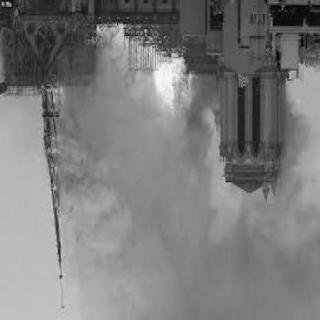Fire: (150, 55, 192, 123)
